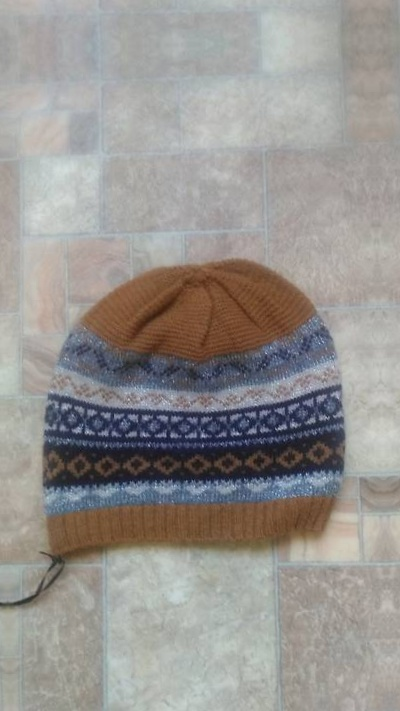Hat: (6, 219, 366, 607), (398, 208, 400, 596)
